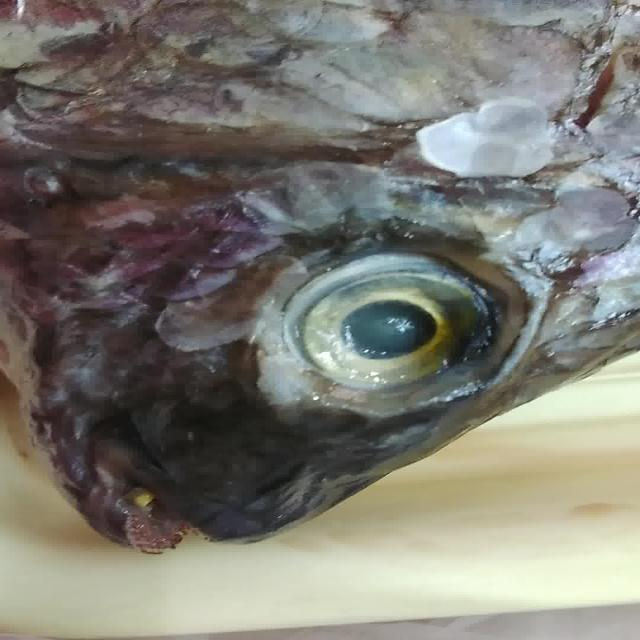Non-Fresh: (273, 225, 533, 448)
